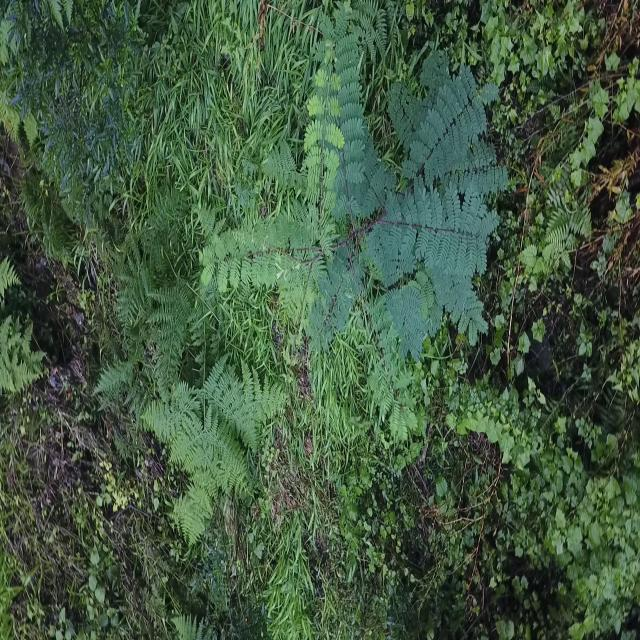Mysore-Thorn-Weed: (215, 25, 510, 348)
